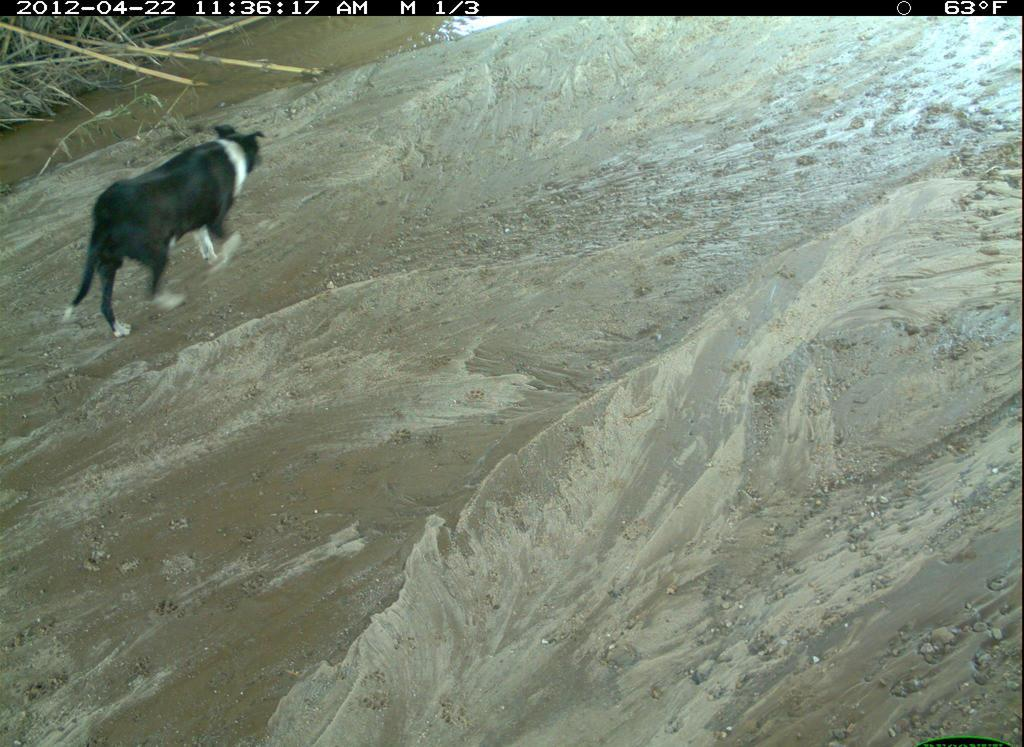dog: (118, 237, 541, 692)
